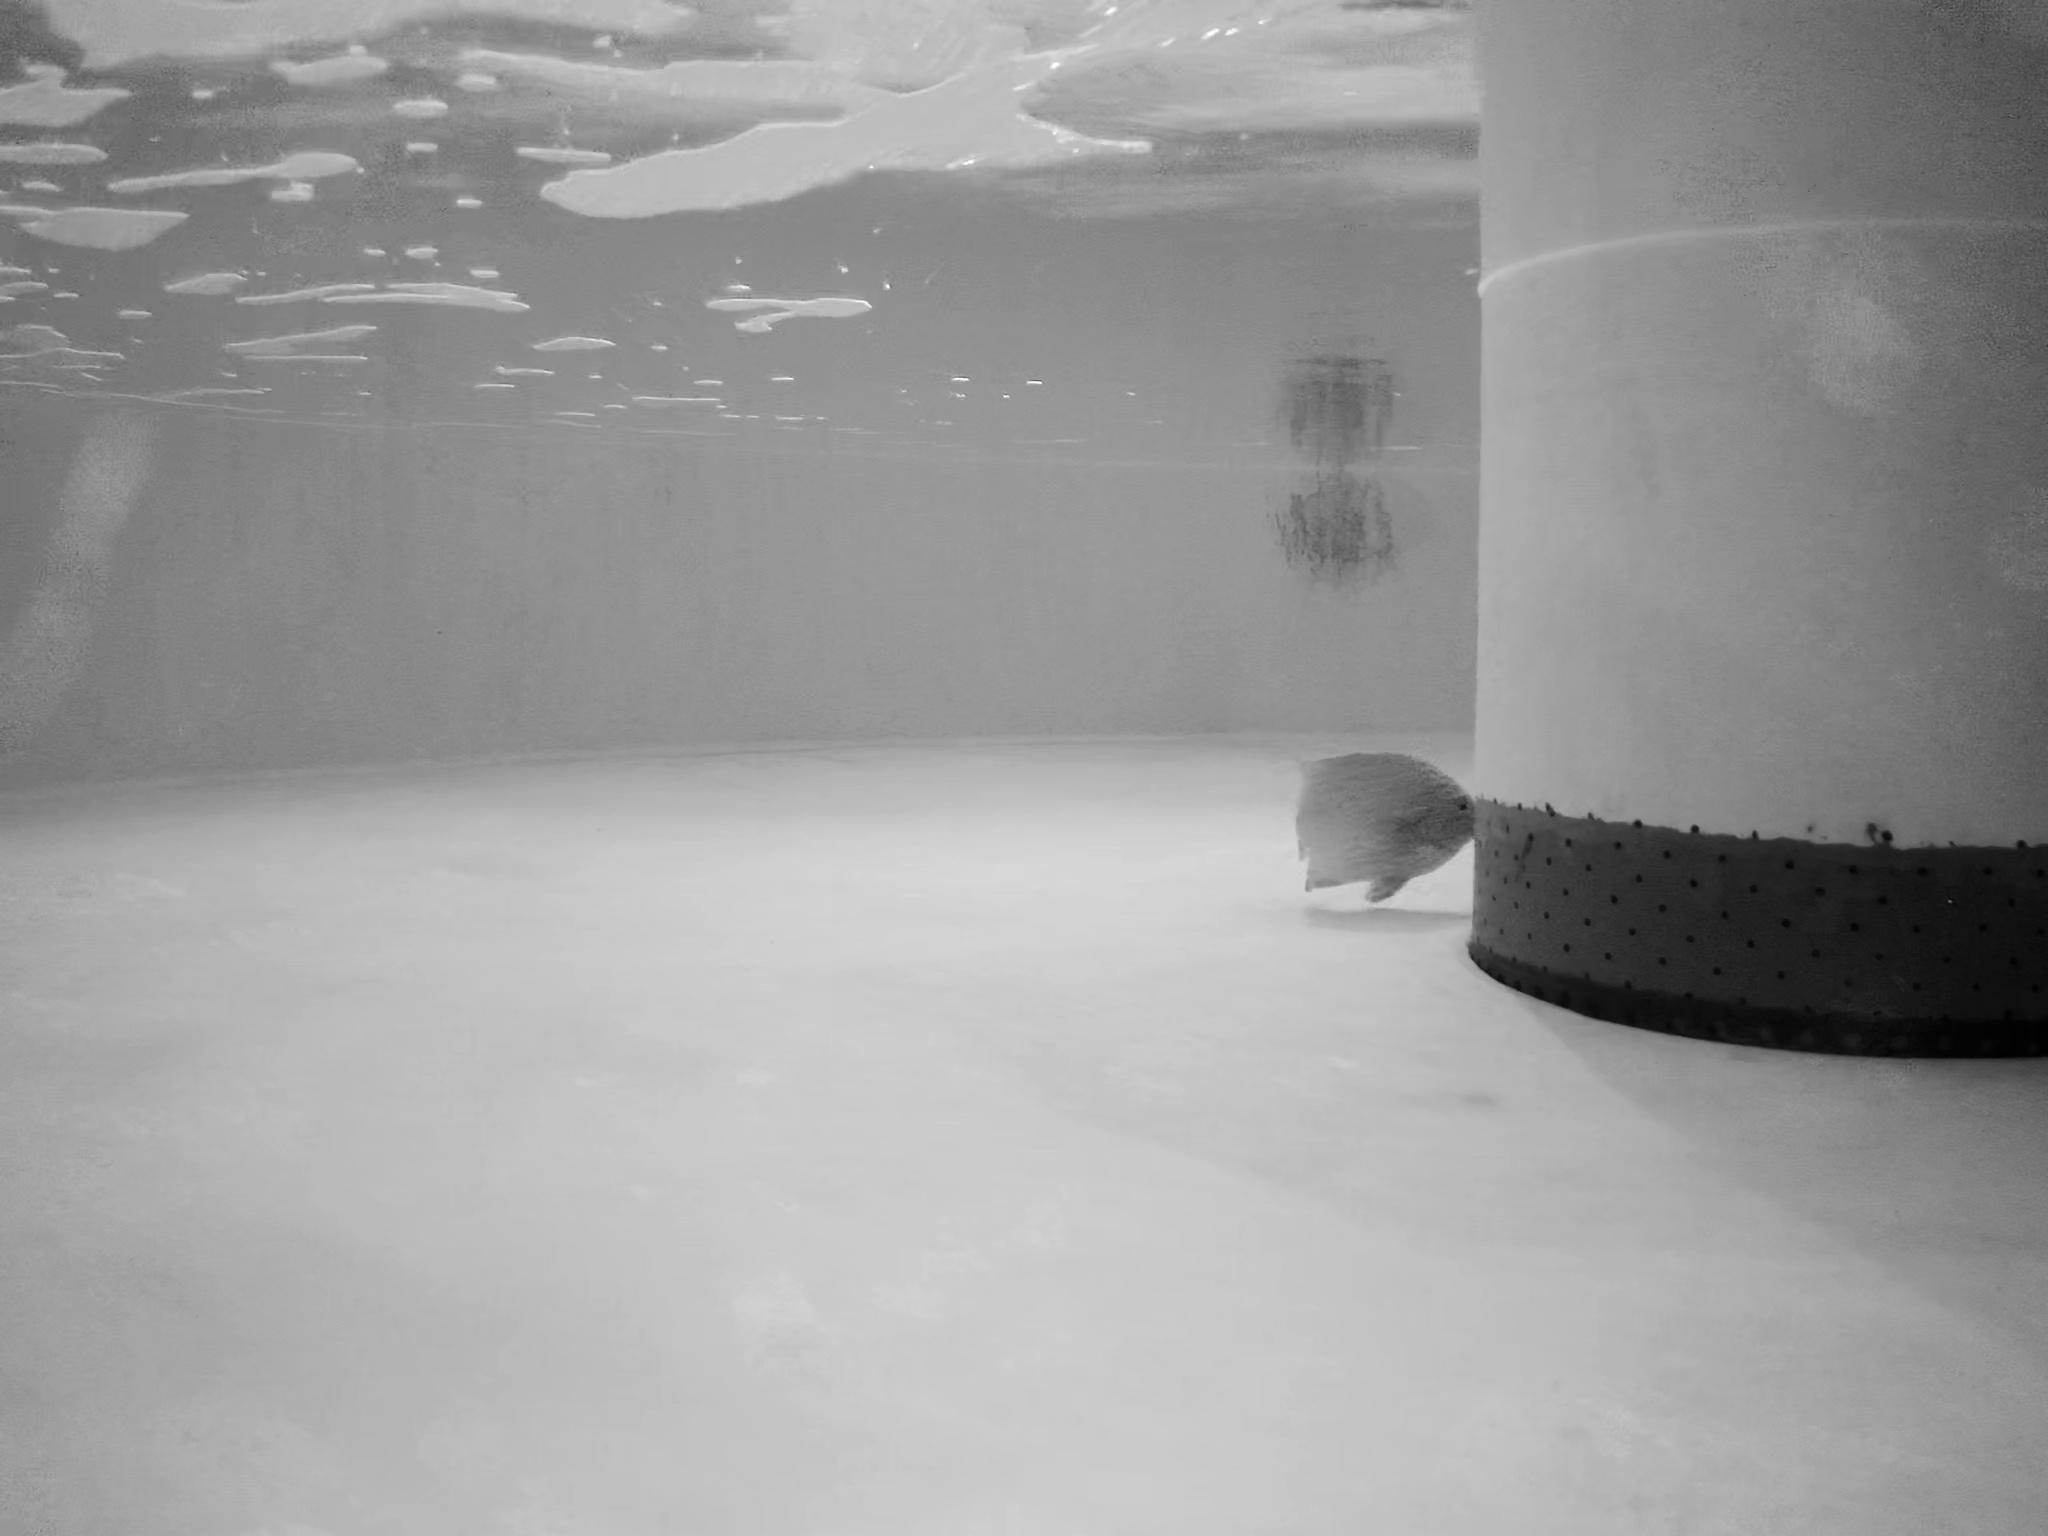fish: (1287, 745, 1472, 904)
